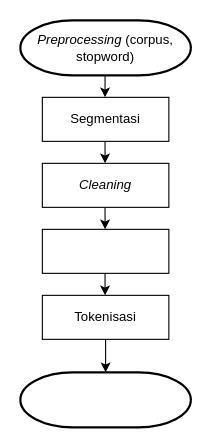
The diagram is 210 pixels wide and 447 high, and some of its shapes have lost their labels. Each missing label, with the centre of its shape:
"Return hasil preprocessing" belongs at point (105, 399).
"Stemming" belongs at point (105, 250).
